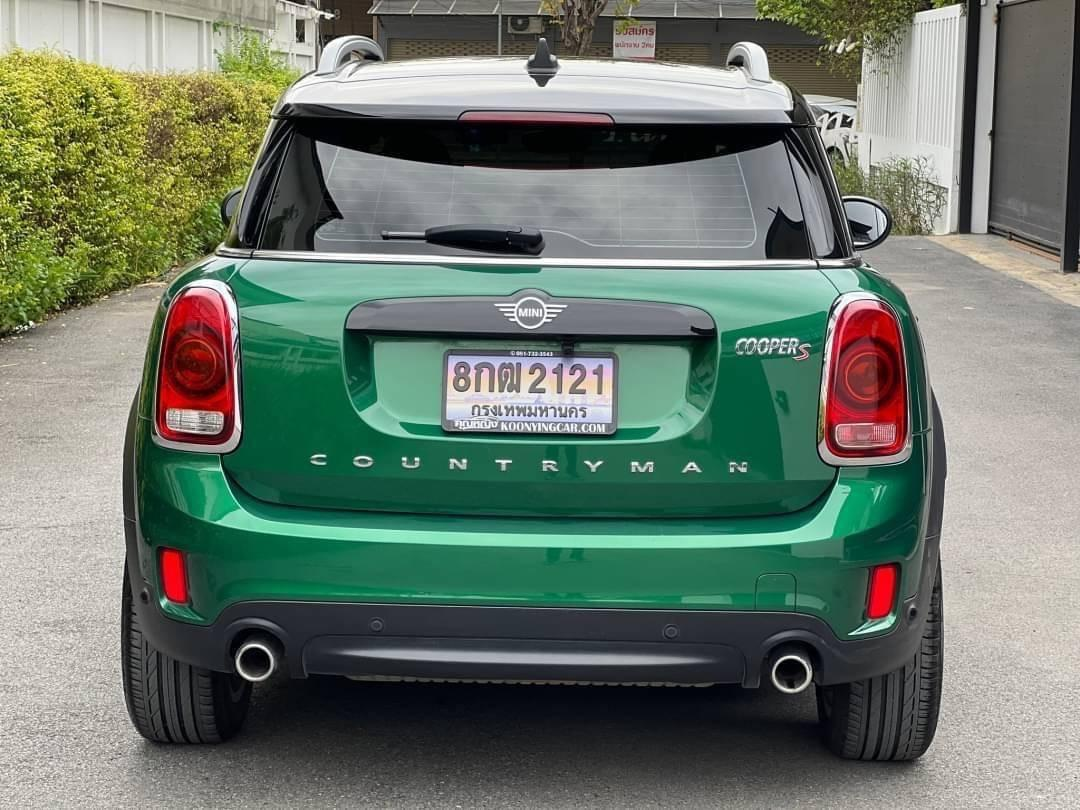license-plate: (440, 345, 624, 440)
